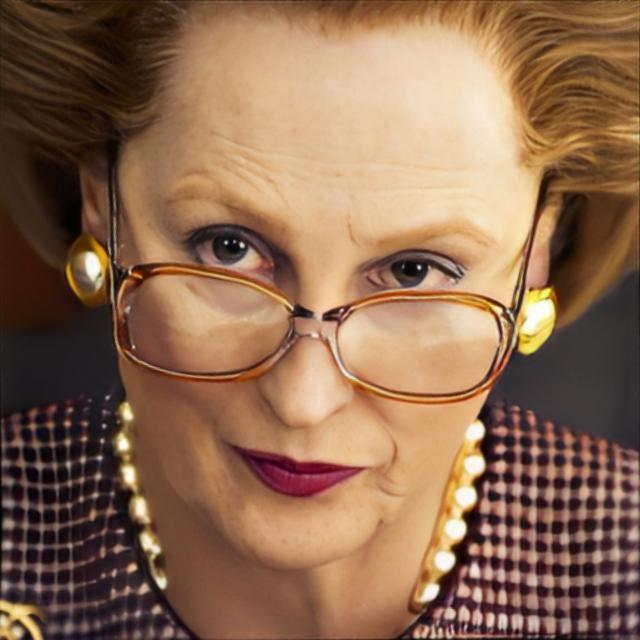content: (114, 0, 543, 571)
